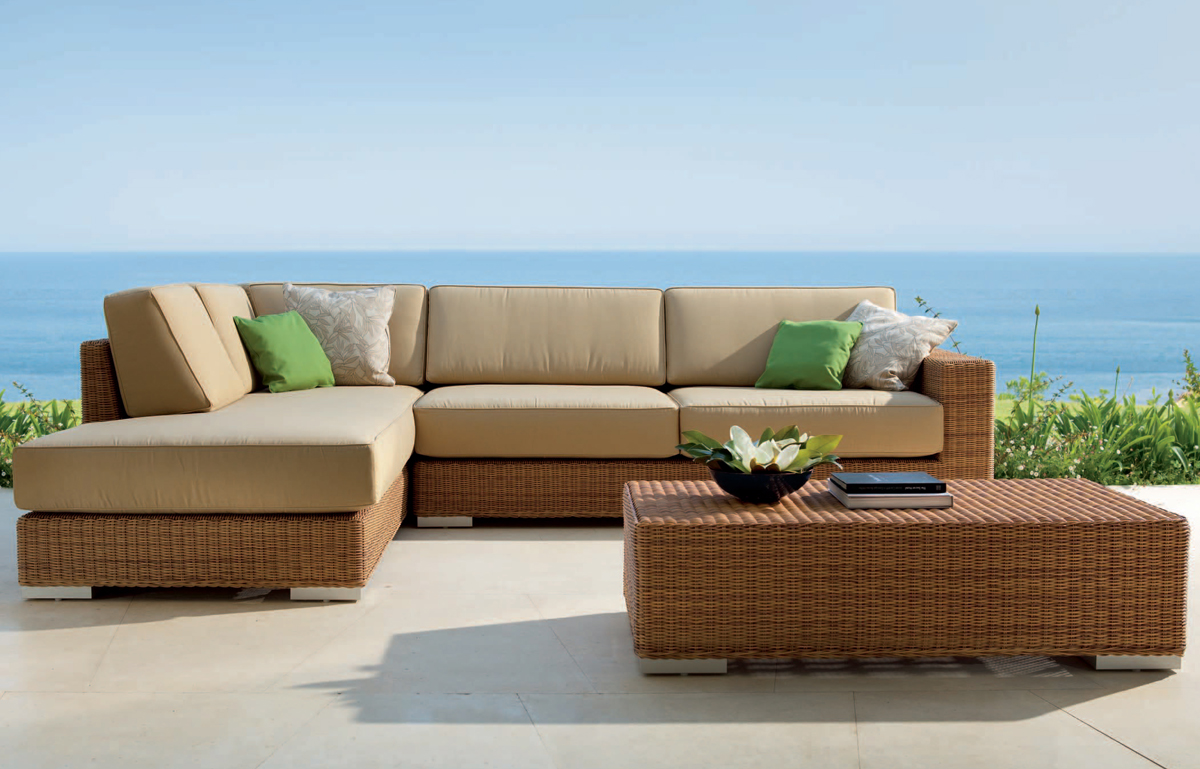chairs: (15, 273, 1001, 601)
